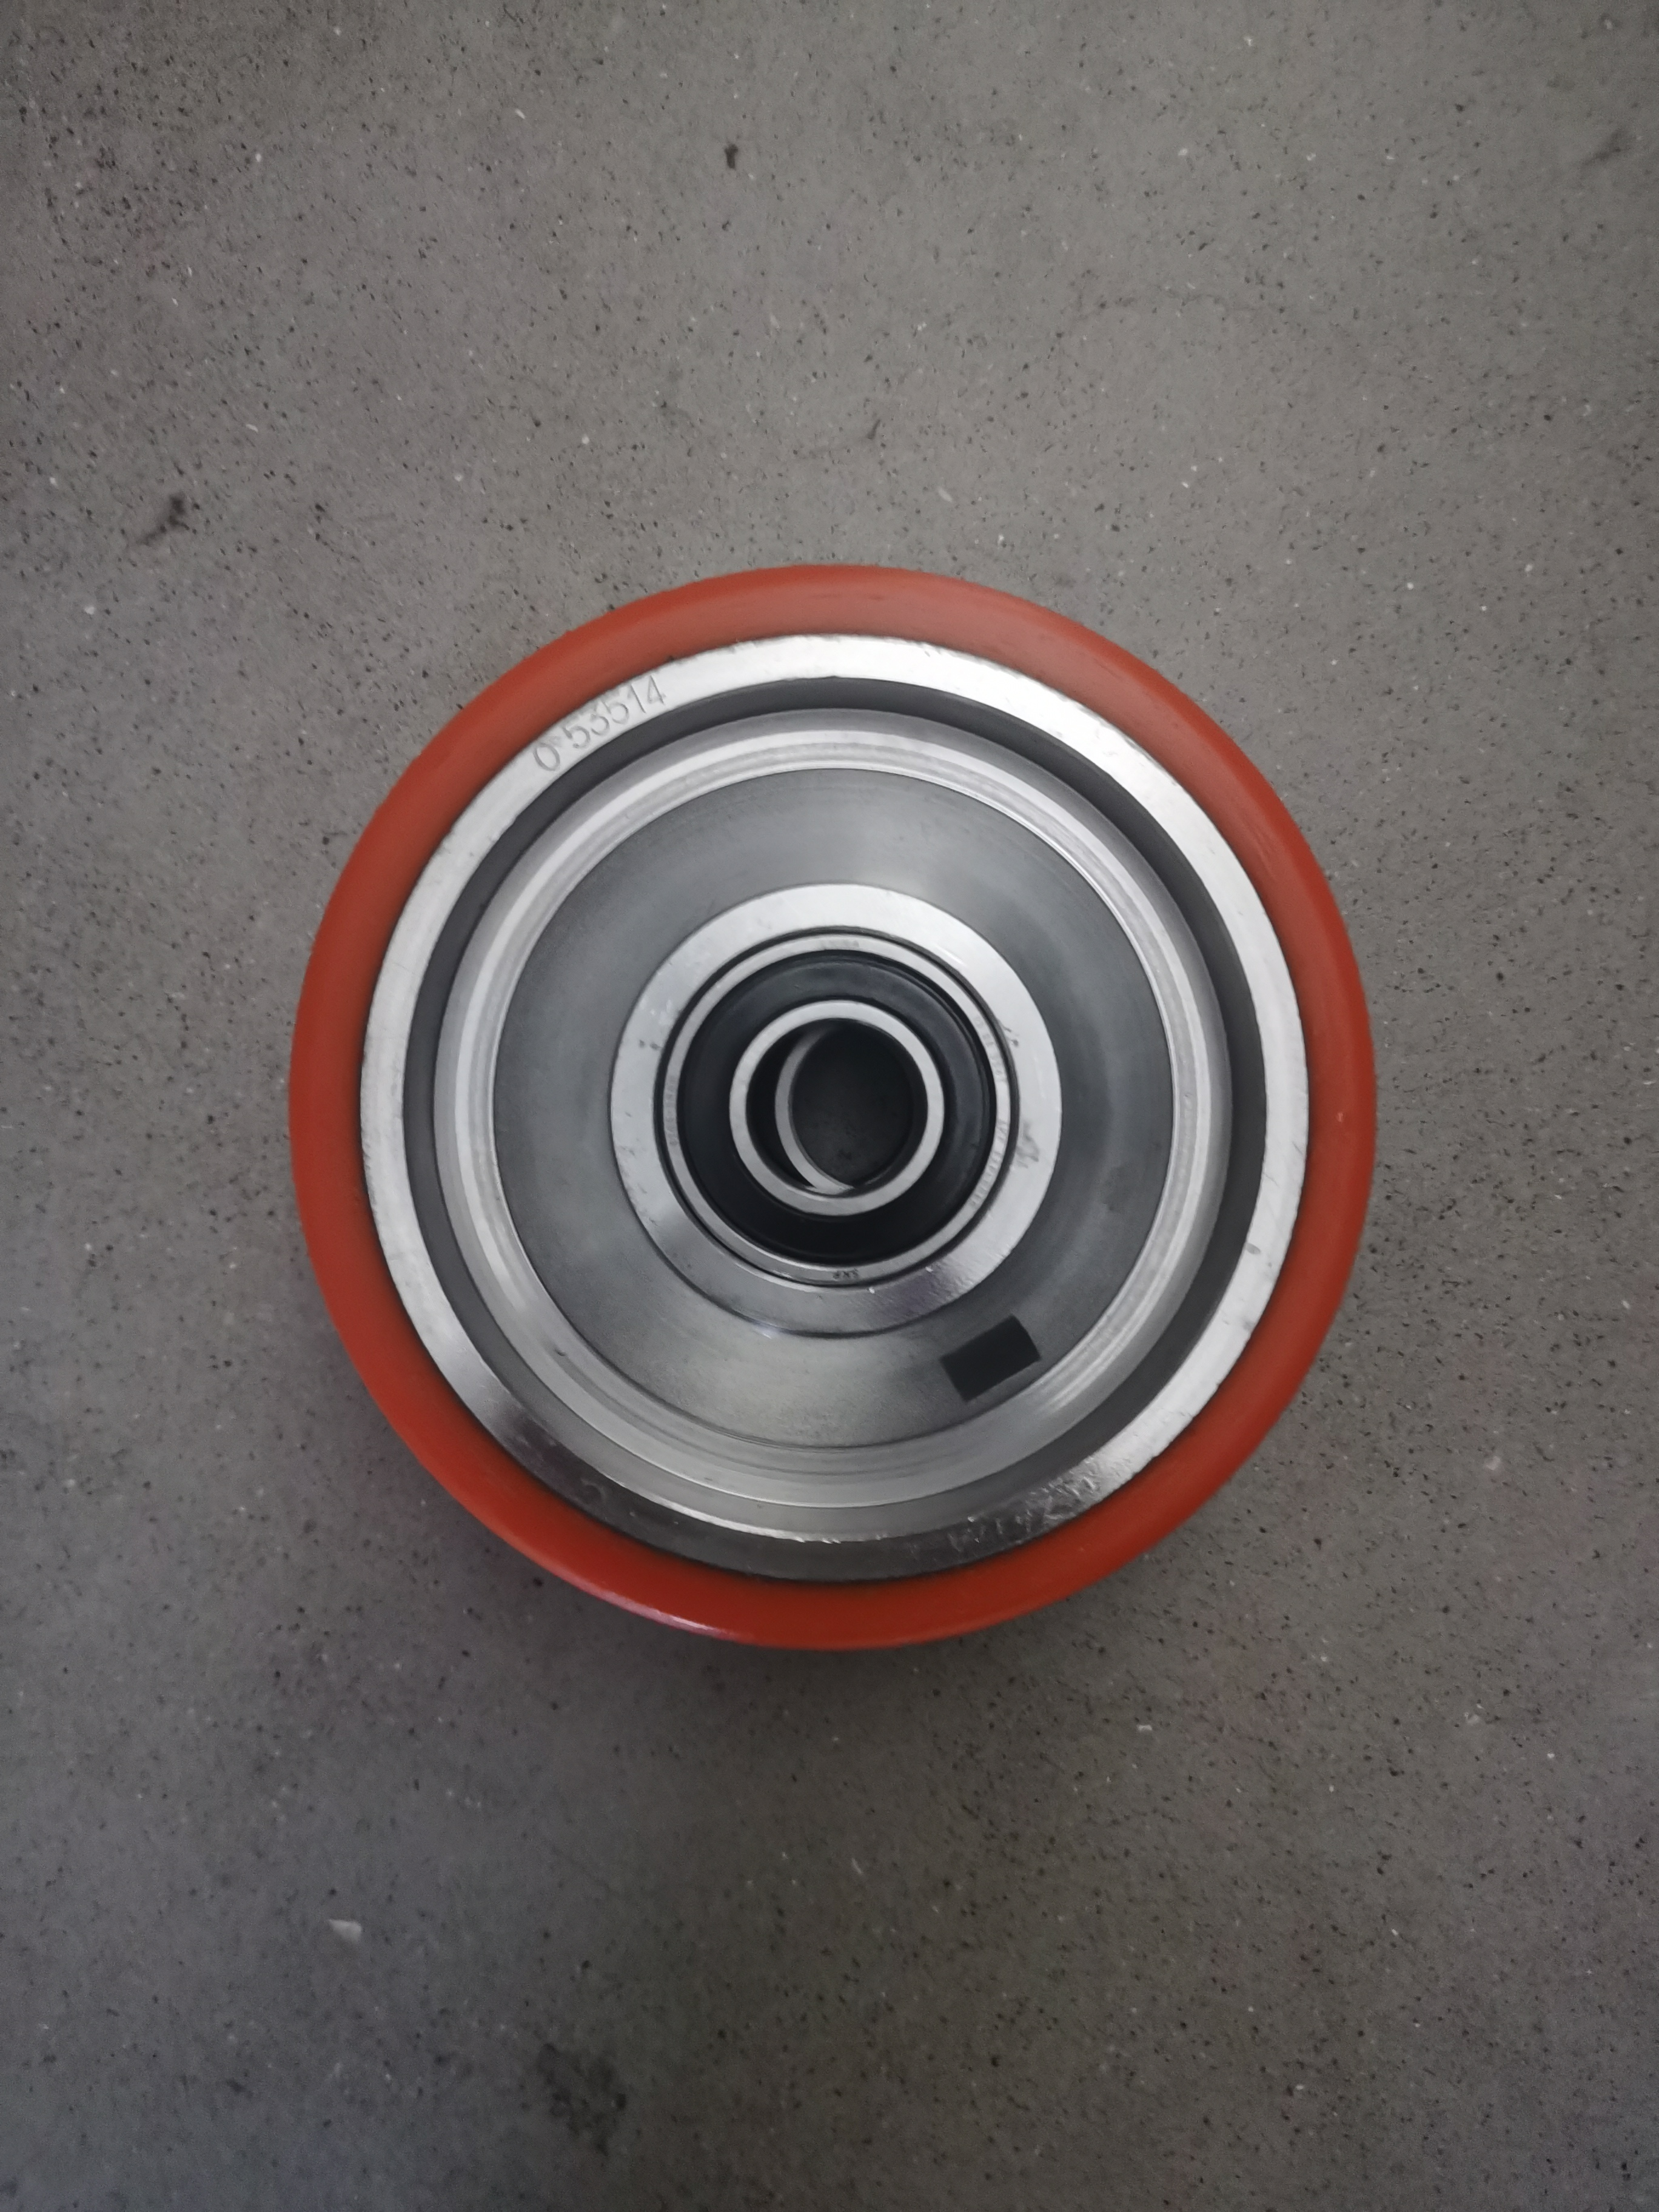good_wheel: (270, 517, 1403, 1655)
